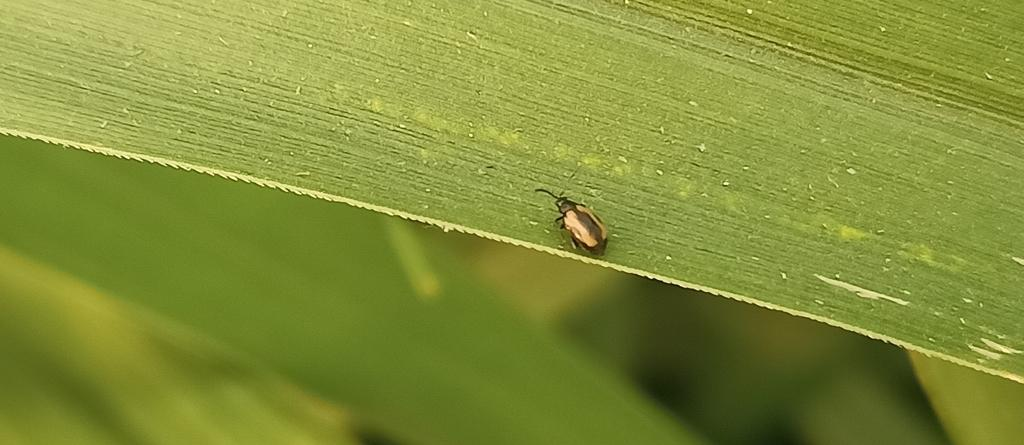flea_beetle: (508, 159, 634, 282)
